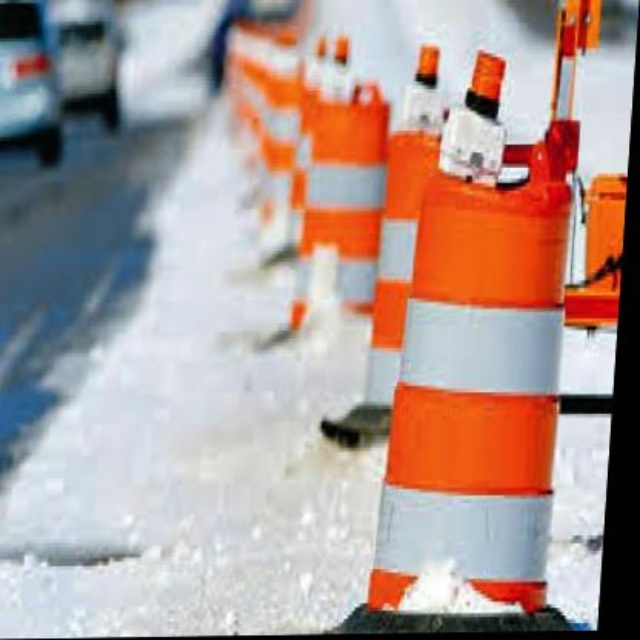obstacle: (371, 172, 588, 627)
